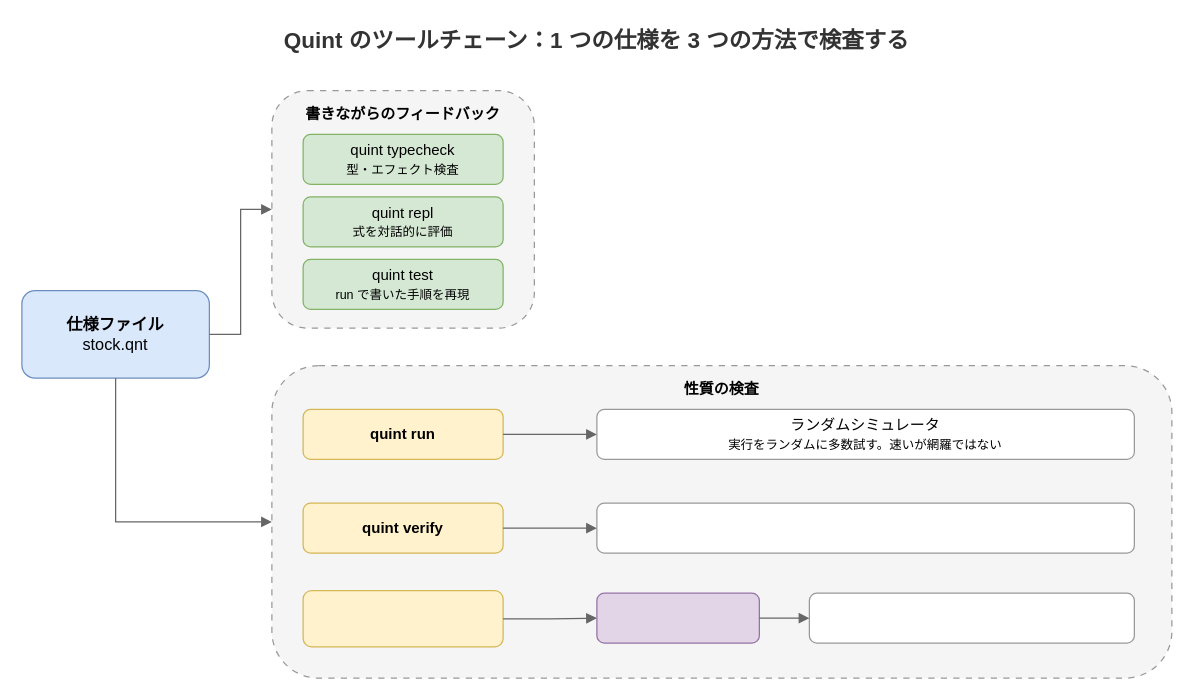
Image size: 1194x700. Some labels were removed from this diagram. Here are the shapes that lost their labels. From the top down, the box of each, then its label:
(596, 502, 1134, 553): Apalache（既定） 記号的モデル検査（SMT / Z3）。指定した手数までを網羅
(302, 589, 503, 647): quint verify --backend=tlc
(596, 592, 759, 643): TLA+ に変換
(808, 592, 1134, 643): TLC 明示的状態探索。到達状態をすべて列挙
